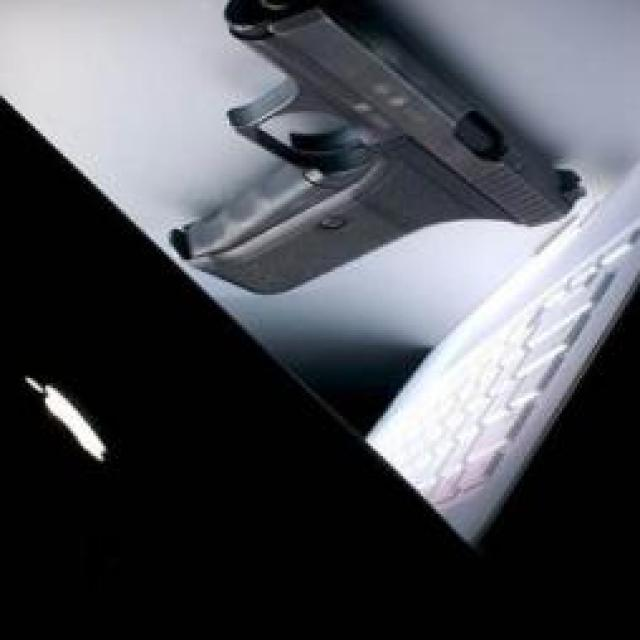pistol: (161, 0, 587, 298)
